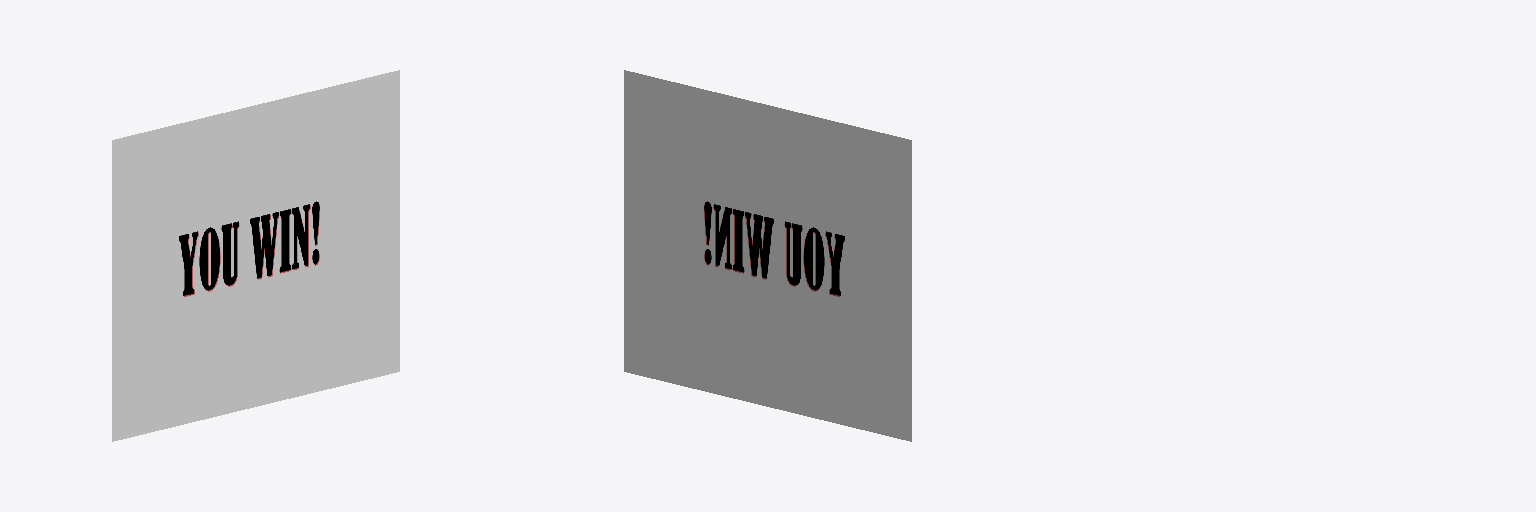
The picture shows the model from 3 angles: view 1: azimuth 30°, elevation 25°; view 2: azimuth 150°, elevation 25°; view 3: azimuth 270°, elevation 25°; orthographic projection.
Parts seen in each view (by area): view 1: Plane.001; view 2: Plane.001; view 3: none.
Boxes of the visible parts, box(x1,y1,x2,y2) form: Plane.001: box(112, 70, 399, 441); Plane.001: box(624, 70, 911, 441).
Bounding box in the file's own units: 2 × 2 × 0.
Materials: 1 (1 with a texture image).